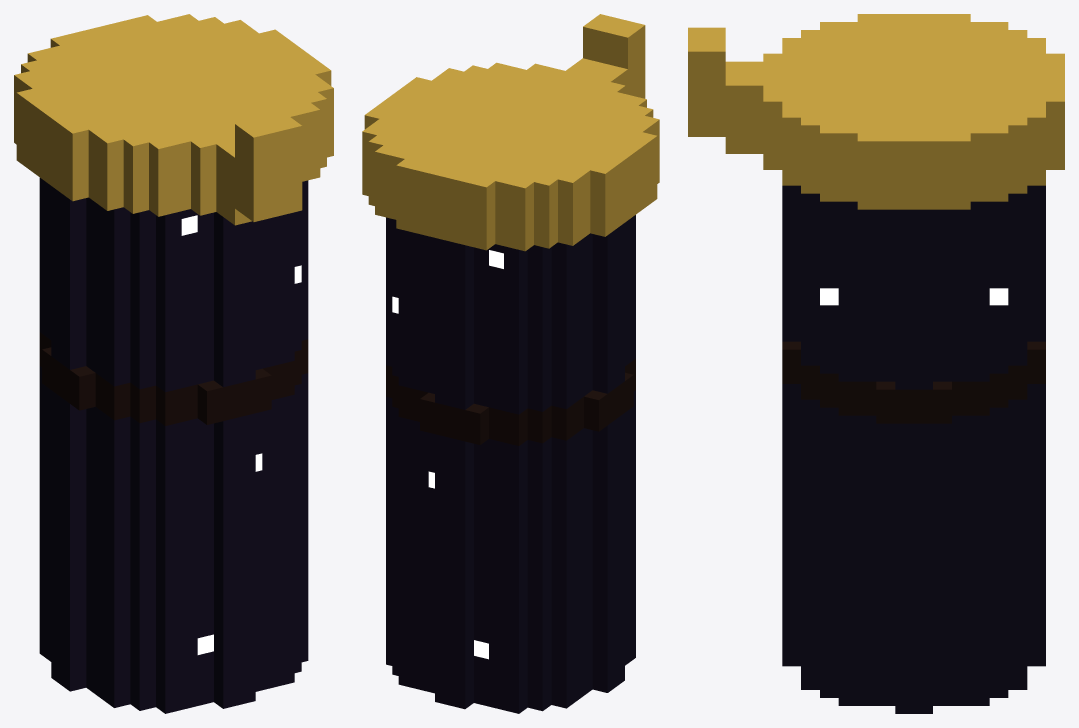
File: mystic_legendary_boot_shin_L.glb
The picture shows the model from 3 angles, left to right: view 1: azimuth 30°, elevation 25°; view 2: azimuth 150°, elevation 25°; view 3: azimuth 270°, elevation 25°; orthographic projection. The views are drawn at different scales.
Parts seen in each view (by area): view 1: mystic_legendary_boot_shin_L; view 2: mystic_legendary_boot_shin_L; view 3: mystic_legendary_boot_shin_L.
Boxes of the visible parts, x1,y1,x2,y2 form: mystic_legendary_boot_shin_L: [14, 14, 333, 713]; mystic_legendary_boot_shin_L: [362, 14, 659, 713]; mystic_legendary_boot_shin_L: [688, 14, 1064, 713].
Bounding box in the file's own units: 0.192 × 0.432 × 0.24.
